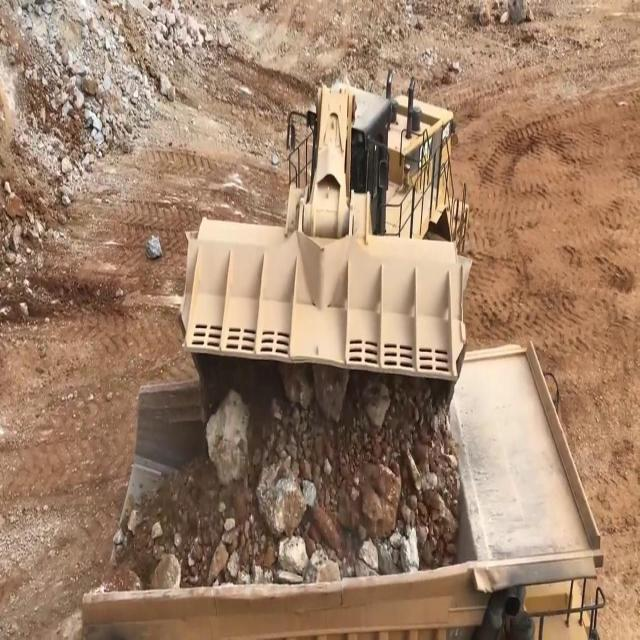Dump Truck: (79, 328, 607, 639)
Loader: (179, 55, 473, 403)
